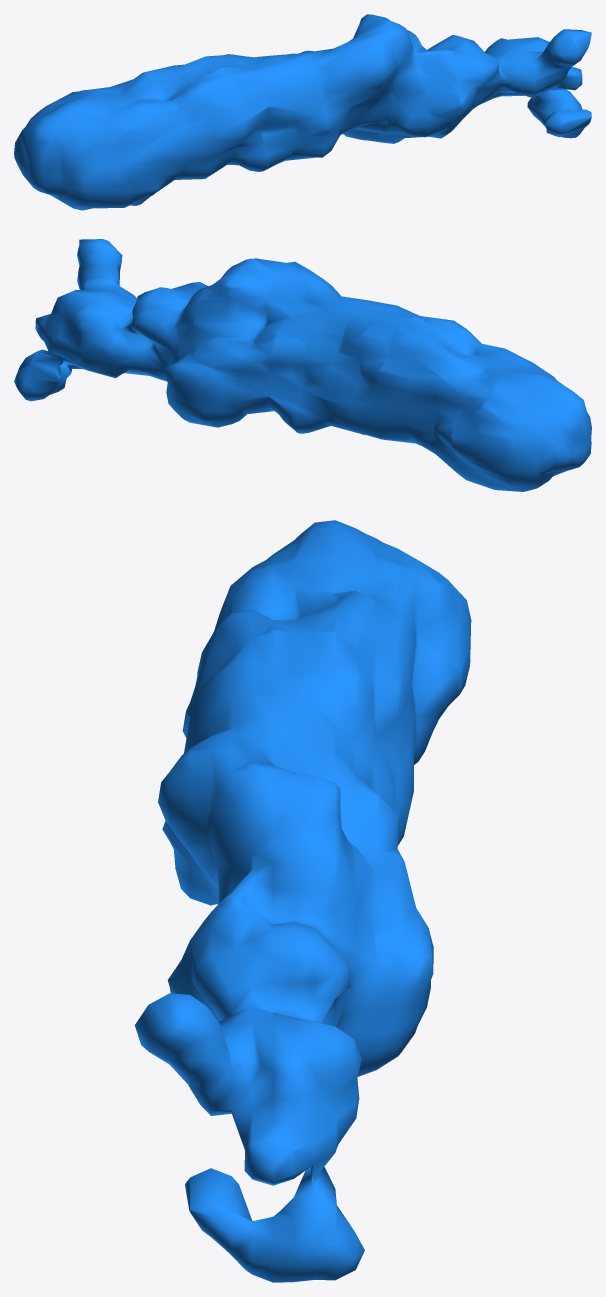
File: Vesicle_135A26monomerAligned.dae
The picture shows the model from 3 angles, top to bottom: view 1: azimuth 30°, elevation 25°; view 2: azimuth 150°, elevation 25°; view 3: azimuth 270°, elevation 25°; orthographic projection. The views are drawn at different scales.
Visible parts, largest first — view 1: vesicle_MeshVes135Mesh; view 2: vesicle_MeshVes135Mesh; view 3: vesicle_MeshVes135Mesh.
Part boxes in pixels (box(x1,y1,x2,y2)): vesicle_MeshVes135Mesh: box(14, 14, 591, 210); vesicle_MeshVes135Mesh: box(14, 239, 591, 491); vesicle_MeshVes135Mesh: box(134, 520, 471, 1282).
Bounding box in the file's own units: 141 × 41.53 × 37.83.
